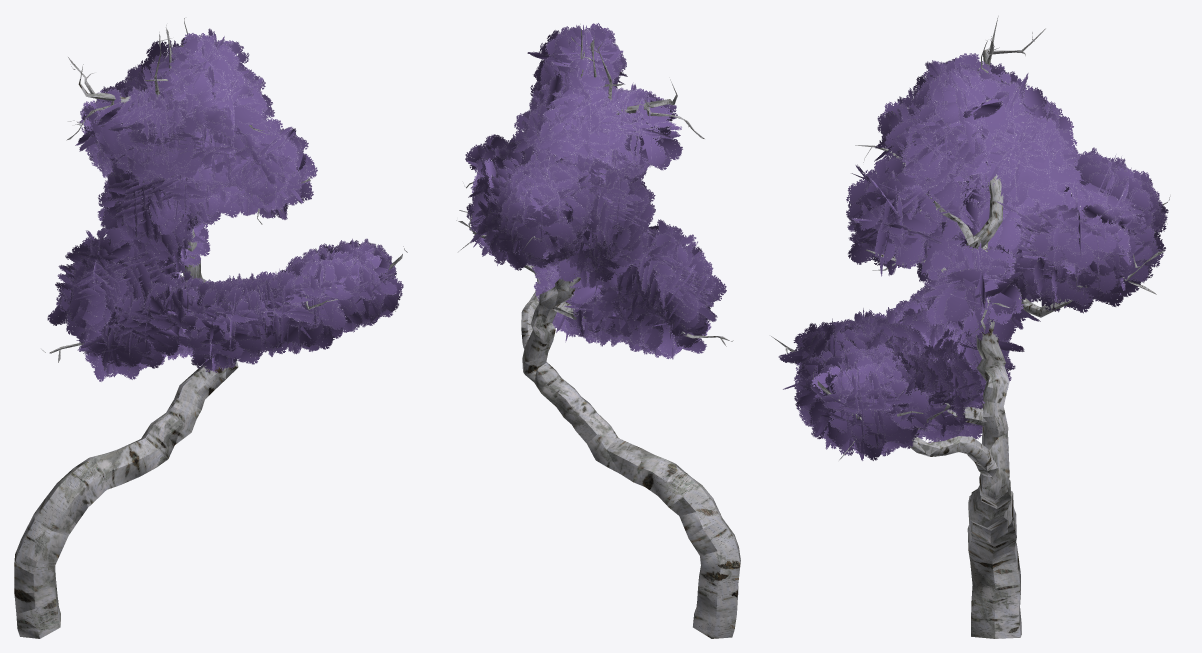
File: tree_w_material 6.fbx
3 renders of one model, left to right at view 1: azimuth 30°, elevation 25°; view 2: azimuth 150°, elevation 25°; view 3: azimuth 270°, elevation 25°, orthographic. The views are drawn at different scales.
Parts seen in each view (by area): view 1: geo1; view 2: geo1; view 3: geo1.
Boxes of the visible parts, bbox=[...] form: geo1: bbox=[14, 18, 407, 638]; geo1: bbox=[456, 23, 740, 638]; geo1: bbox=[771, 16, 1170, 638].
Size of the model in its own units: 495 by 822 by 454.
